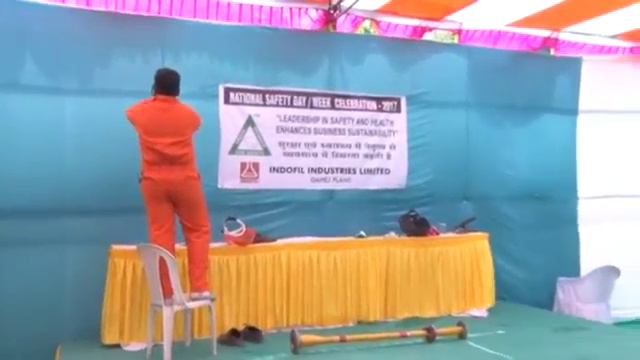helmet_off: (150, 67, 183, 105)
person: (125, 68, 219, 306)
